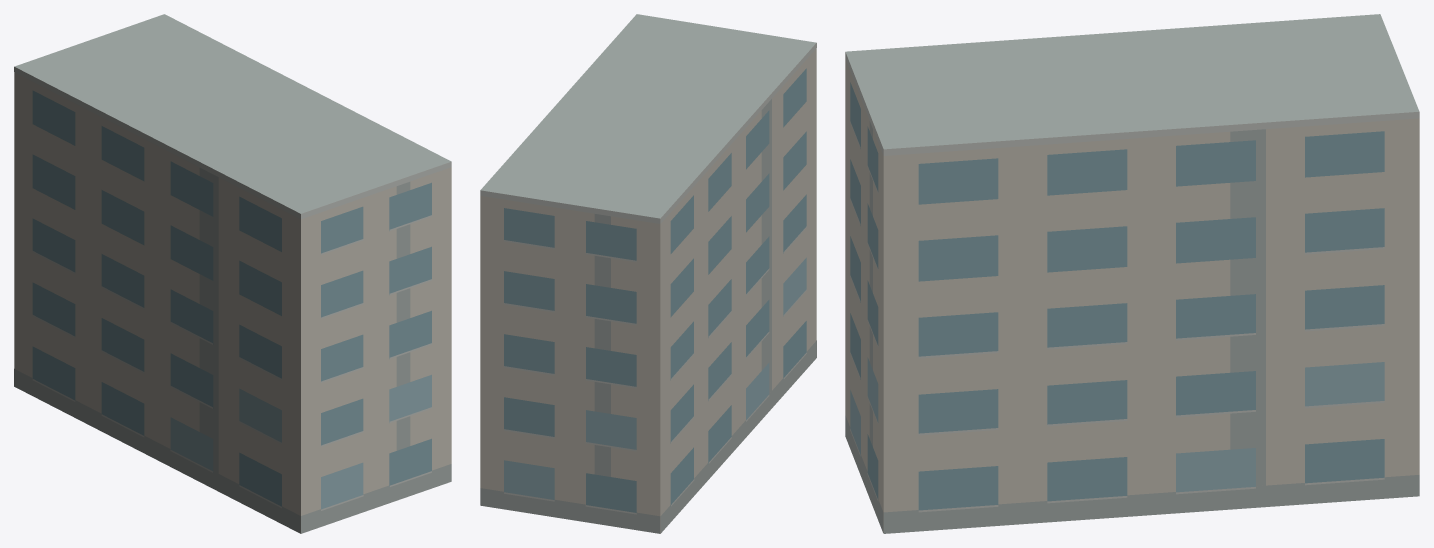
The model's file is survey-upis-32762027.glb.
The picture shows the model from 3 angles, left to right: view 1: azimuth 30°, elevation 25°; view 2: azimuth 150°, elevation 25°; view 3: azimuth 270°, elevation 25°; orthographic projection. The views are drawn at different scales.
Visible parts, largest first — view 1: survey-upis-32762027.tmp; view 2: survey-upis-32762027.tmp; view 3: survey-upis-32762027.tmp.
Boxes of the visible parts, x1,y1,x2,y2 form: survey-upis-32762027.tmp: (14,14,451,533); survey-upis-32762027.tmp: (480,14,816,533); survey-upis-32762027.tmp: (845,14,1419,533).
Size of the model in its own units: 10.58 by 14 by 18.96.
